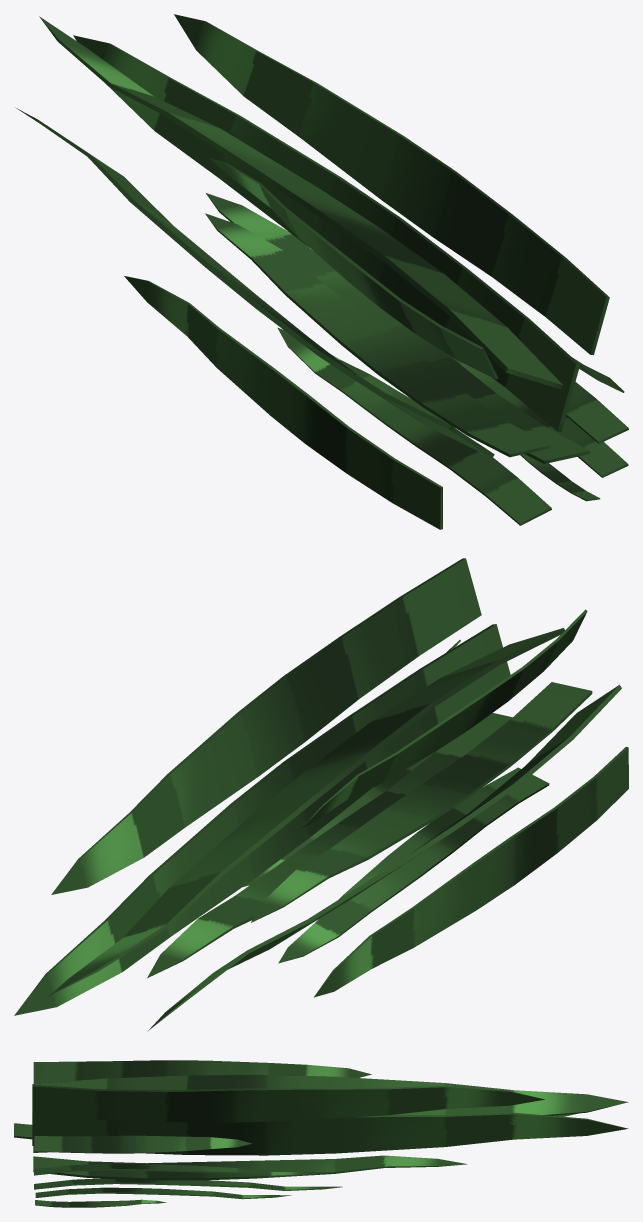
Rendered from fixedGrassFinal.fbx.
3 renders of one model, top to bottom at view 1: azimuth 30°, elevation 25°; view 2: azimuth 150°, elevation 25°; view 3: azimuth 270°, elevation 25°, orthographic. The views are drawn at different scales.
Visible parts, largest first — view 1: Cube.014; view 2: Cube.014; view 3: Cube.014.
Boxes of the visible parts, left/top/right/bottom form: Cube.014: left=15, top=14, right=628, bottom=529; Cube.014: left=14, top=558, right=628, bottom=1031; Cube.014: left=14, top=1060, right=628, bottom=1207.
Bounding box in the file's own units: 0.2268 × 0.2264 × 0.9952.
